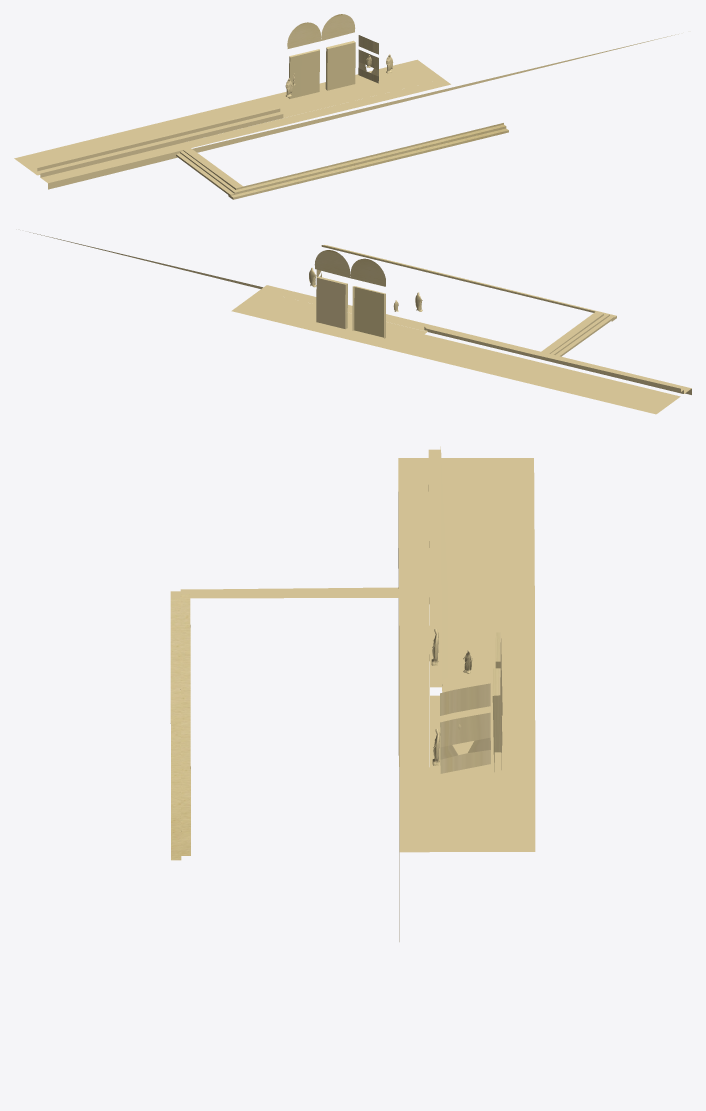
The model's file is catedral6bx.fbx.
The picture shows the model from 3 angles, top to bottom: view 1: azimuth 30°, elevation 25°; view 2: azimuth 150°, elevation 25°; view 3: azimuth 270°, elevation 25°; orthographic projection. The views are drawn at different scales.
Visible parts, largest first — view 1: Cube.099, Cube.103, Cube.072, Cube.049; view 2: Cube.099, Cube.103, Cube.072; view 3: Cube.099, Cube.049, Cube.103.
Boxes of the visible parts, left/top/right/bottom form: Cube.099: left=14, top=34, right=678, bottom=199; Cube.103: left=288, top=40, right=355, bottom=98; Cube.072: left=287, top=14, right=355, bottom=48; Cube.049: left=358, top=35, right=378, bottom=83; Cube.099: left=29, top=232, right=691, bottom=414; Cube.103: left=316, top=276, right=385, bottom=338; Cube.072: left=314, top=250, right=385, bottom=286; Cube.099: left=170, top=446, right=535, bottom=941; Cube.049: left=440, top=683, right=490, bottom=773; Cube.103: left=492, top=632, right=502, bottom=771.
Size of the model in its own units: 19245 by 2263 by 4720.
